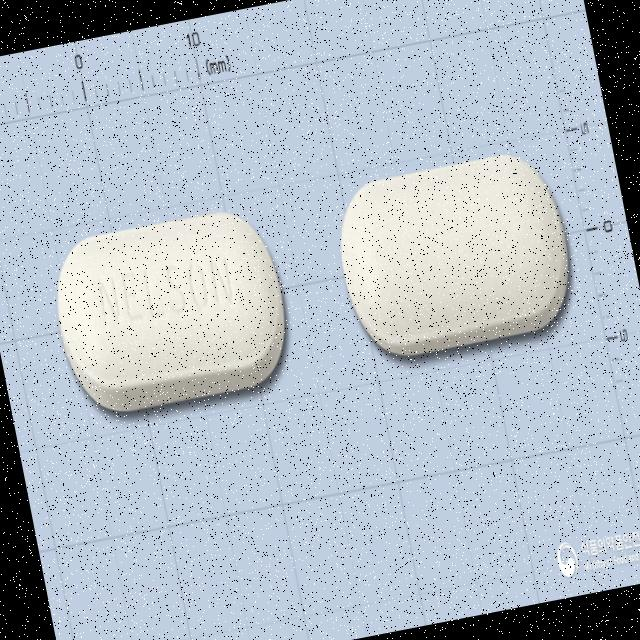Ciproctan: (40, 192, 308, 430), (322, 140, 589, 374)
